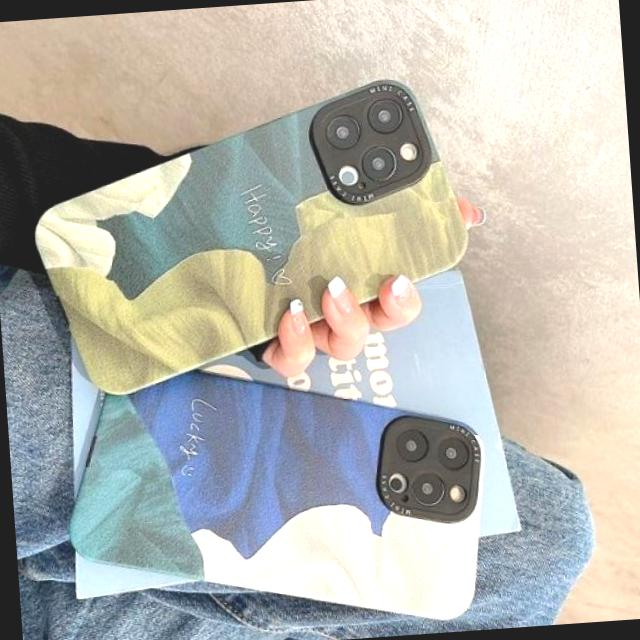lens_back: (356, 141, 399, 183), (431, 434, 472, 476), (388, 424, 428, 466), (363, 94, 403, 134), (322, 112, 362, 152), (406, 472, 448, 507)
phone: (19, 74, 480, 397), (54, 352, 496, 640)
